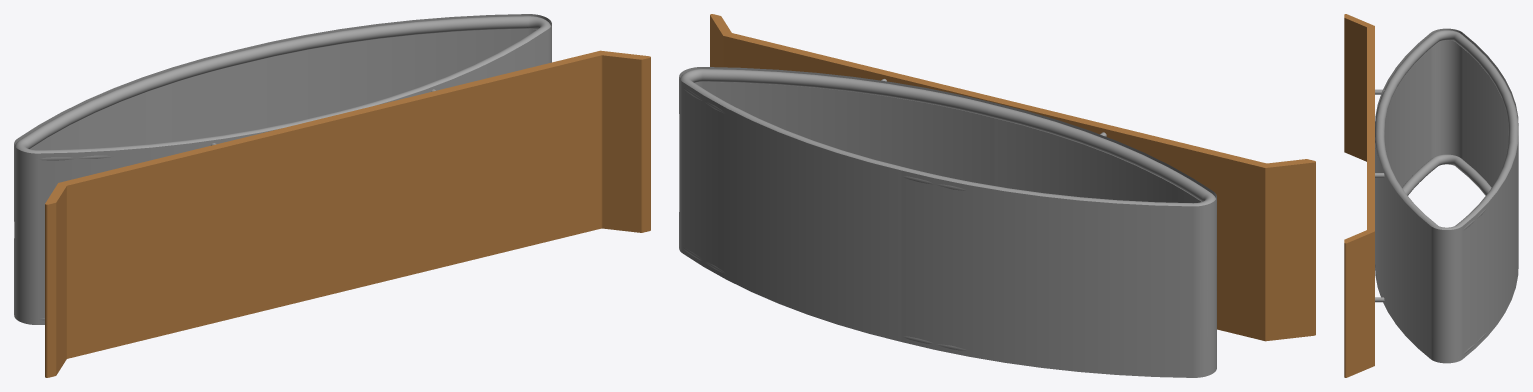
File: seesaw.fbx
The picture shows the model from 3 angles, left to right: view 1: azimuth 30°, elevation 25°; view 2: azimuth 150°, elevation 25°; view 3: azimuth 270°, elevation 25°; orthographic projection. The views are drawn at different scales.
Parts seen in each view (by area): view 1: Body5, Body4, Body3; view 2: Body4, Body5, Body3; view 3: Body4, Body5, Body3, Body1.
Part boxes in pixels (bbox=[...]): Body5: bbox=[45, 50, 650, 377]; Body4: bbox=[14, 14, 551, 324]; Body3: bbox=[15, 16, 550, 160]; Body4: bbox=[679, 67, 1216, 377]; Body5: bbox=[710, 14, 1315, 341]; Body3: bbox=[679, 69, 1215, 206]; Body4: bbox=[1375, 28, 1518, 363]; Body5: bbox=[1344, 14, 1374, 377]; Body3: bbox=[1375, 30, 1518, 232]; Body1: bbox=[1375, 154, 1491, 358].
Bounding box in the file's own units: 1645 × 450 × 529.
